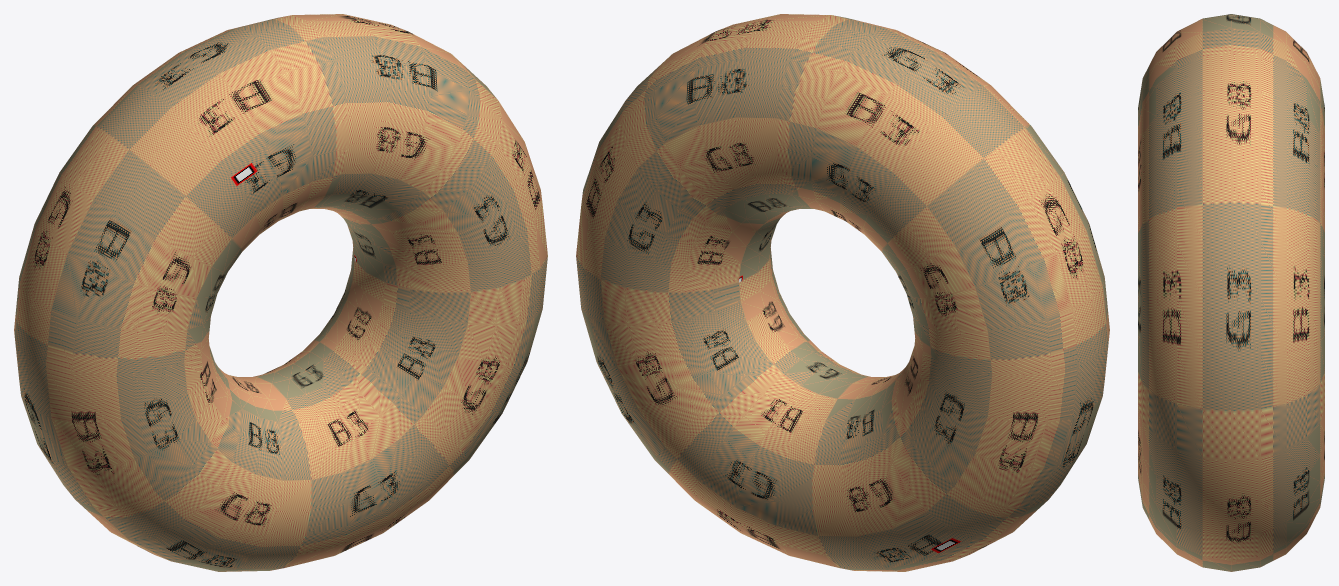
The model's file is uv_checkerboard_res_1024_iter_192.obj.
3 renders of one model, left to right at view 1: azimuth 30°, elevation 25°; view 2: azimuth 150°, elevation 25°; view 3: azimuth 270°, elevation 25°, orthographic. The views are drawn at different scales.
Bounding box in the file's own units: 3 × 2.98 × 1.
Materials: 1 (1 with a texture image).
